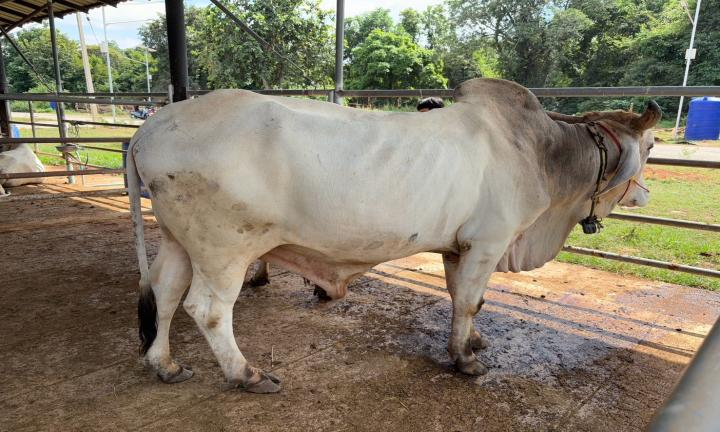Brahman: (128, 78, 661, 392)
